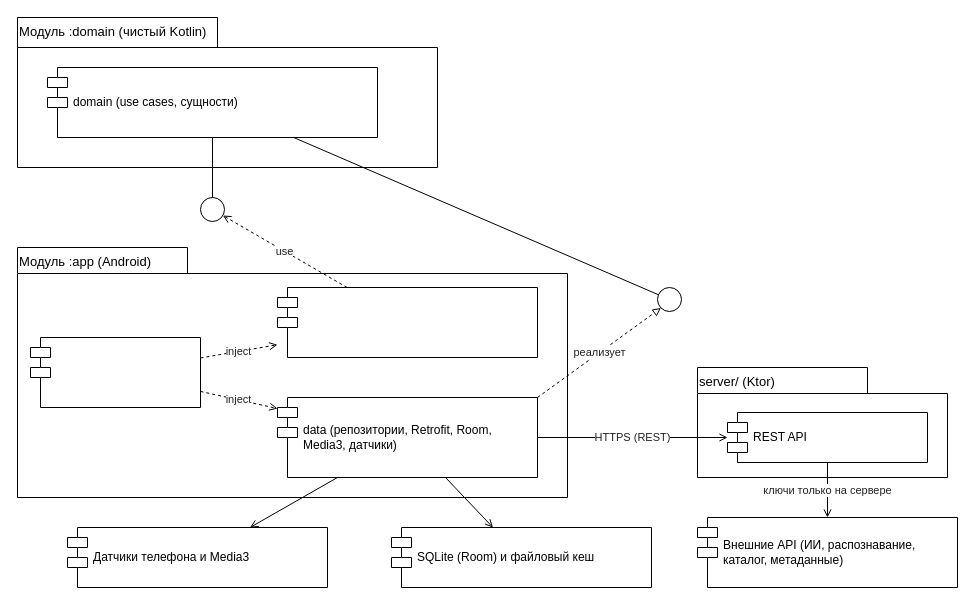
The diagram is 975 pixels wide and 605 high, and some of its shapes have lost their labels. The shapes that lost their labels are listed below. From the top down, each one's centre as x and y in pixels, then its label:
(212,209): Use cases
(669,299): Интерфейсы
(407,322): presentation (Compose, ViewModel)
(115,372): di (Hilt-модули)
